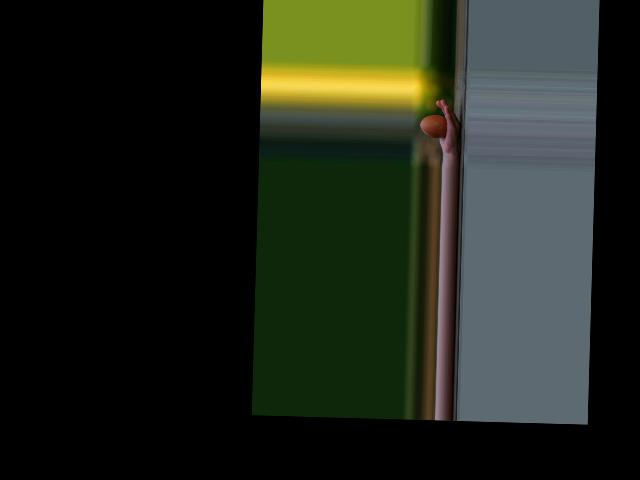egg: (420, 115, 447, 139)
